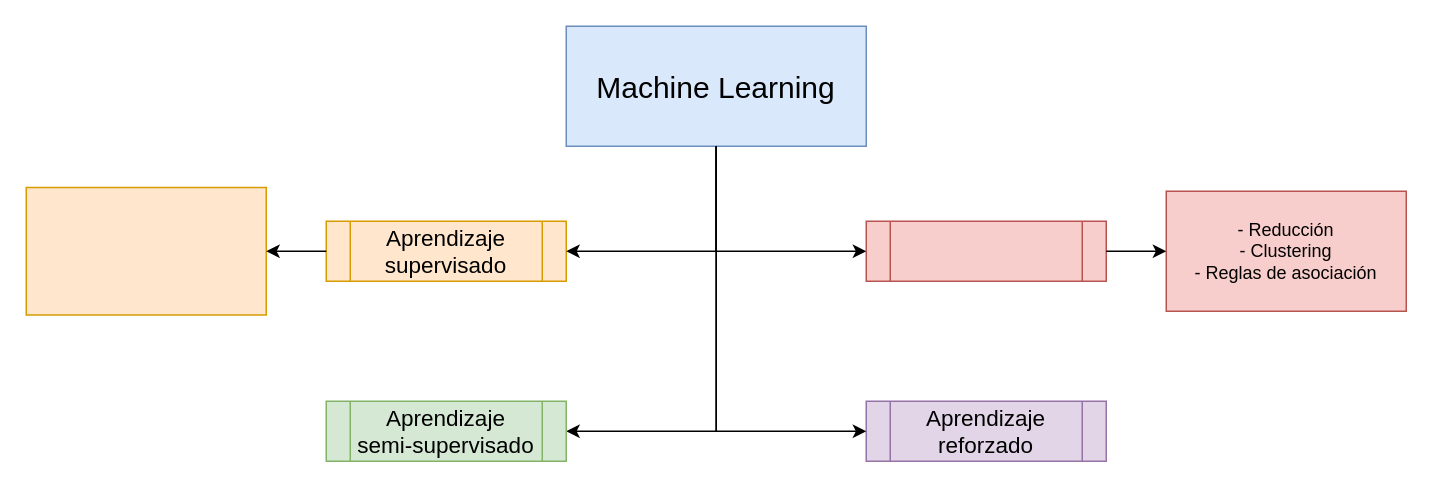
The diagram is 1433 pixels wide and 488 high, and some of its shapes have lost their labels. The box of each missing label's shape, as (x1, y1, x2, y2) in pixels:
- Clasificación - Regresión: (25, 186, 266, 315)
Aprendizaje no supervisado: (865, 220, 1106, 281)
